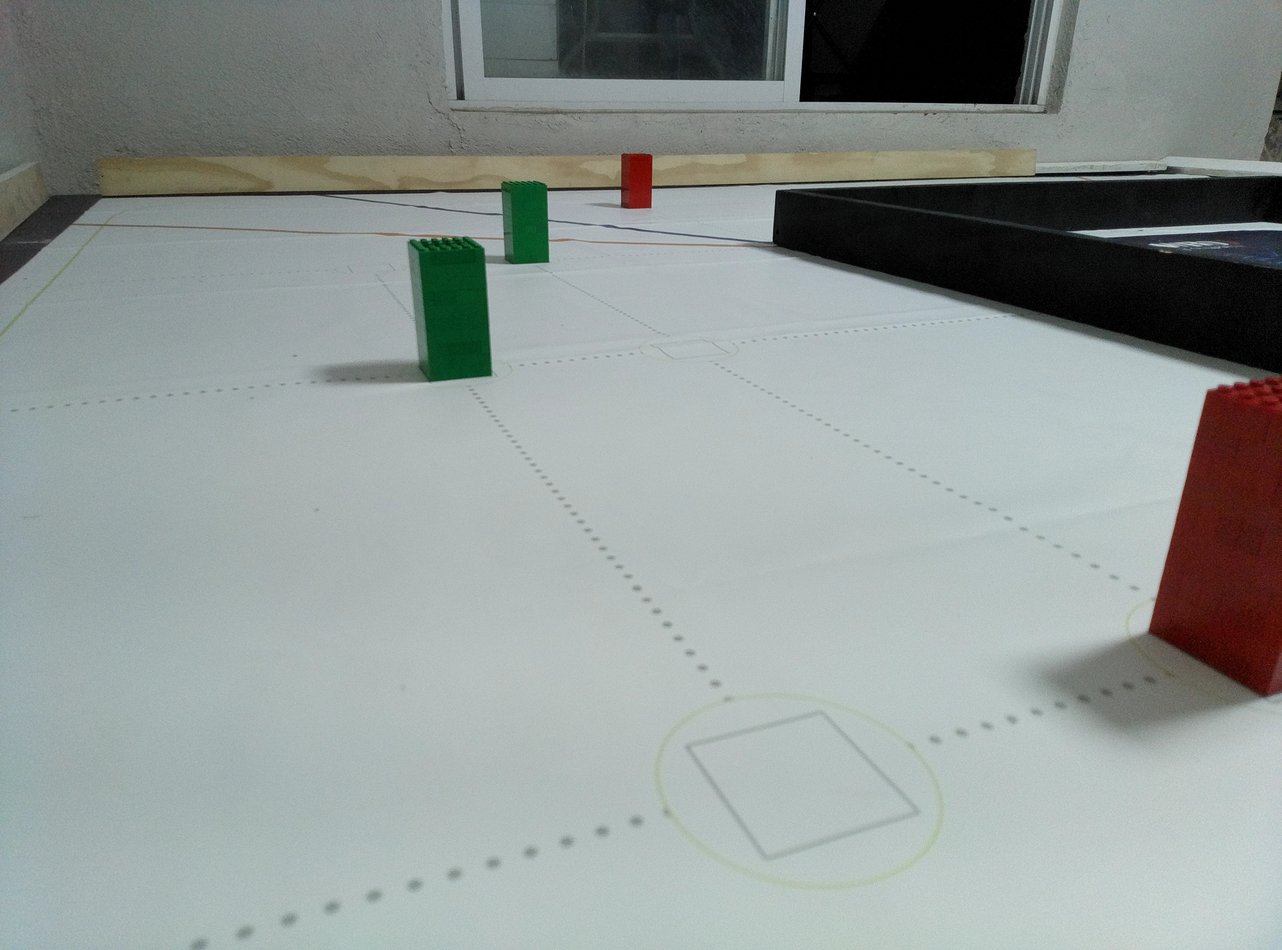greenbox: (407, 236, 493, 382), (501, 181, 549, 265)
redbox: (1147, 375, 1282, 698), (621, 154, 653, 209)
